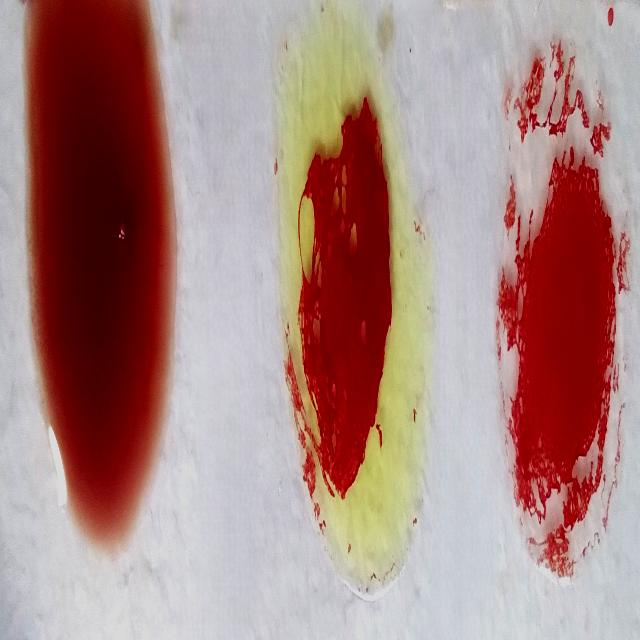B: (288, 16, 431, 588)
D: (502, 26, 625, 572)
